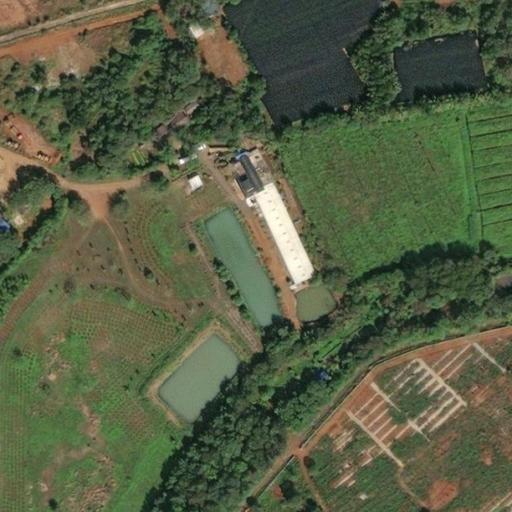building: (241, 182, 303, 281), (238, 149, 263, 187), (230, 151, 253, 190), (0, 189, 24, 214), (176, 22, 194, 40), (219, 154, 235, 171), (188, 0, 206, 15), (171, 101, 188, 116), (174, 173, 190, 188), (228, 172, 242, 187)
